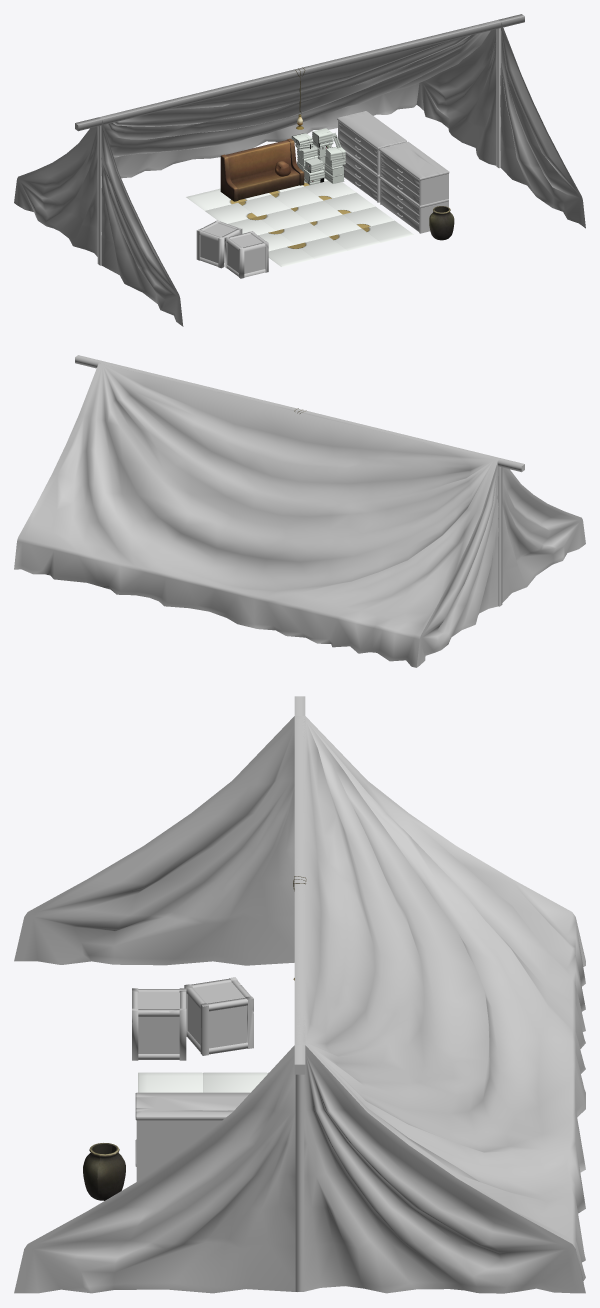
The model's file is shop1.FBX.
3 views of the same model, one above another, from view 1: azimuth 30°, elevation 25°; view 2: azimuth 150°, elevation 25°; view 3: azimuth 270°, elevation 25° (orthographic). The views are drawn at different scales.
Parts seen in each view (by area): view 1: tent_tent, tent_boxes, tent_floor, tent_sofa, tent_books; view 2: tent_tent, tent_boxes; view 3: tent_tent, tent_boxes, tent_floor, tent_sofa.
Boxes of the visible parts, <box> form: tent_tent: <box>14,20,585,326</box>; tent_boxes: <box>75,14,524,278</box>; tent_floor: <box>186,178,413,266</box>; tent_sofa: <box>220,67,454,240</box>; tent_books: <box>291,128,345,185</box>; tent_tent: <box>14,361,585,667</box>; tent_boxes: <box>75,355,524,472</box>; tent_tent: <box>14,716,585,1293</box>; tent_boxes: <box>132,696,305,1181</box>; tent_floor: <box>138,1072,268,1092</box>; tent_sofa: <box>83,876,306,1200</box>.
Bounding box in the file's own units: 403 × 265 × 127.
